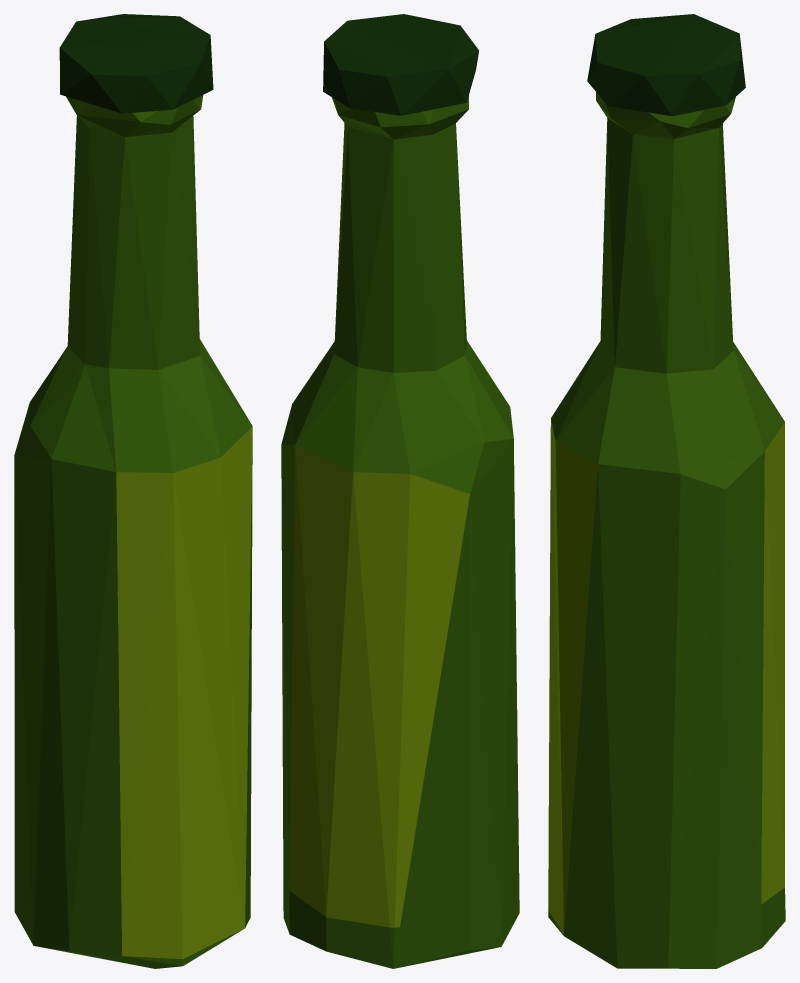
The model's file is Bottle04.fbx.
The picture shows the model from 3 angles, left to right: view 1: azimuth 30°, elevation 25°; view 2: azimuth 150°, elevation 25°; view 3: azimuth 270°, elevation 25°; orthographic projection.
Parts seen in each view (by area): view 1: Bottle04LowPoly; view 2: Bottle04LowPoly; view 3: Bottle04LowPoly.
Part boxes in pixels (x1,y1,x2,y2): Bottle04LowPoly: (14, 14, 252, 968); Bottle04LowPoly: (281, 14, 519, 968); Bottle04LowPoly: (548, 14, 785, 968).
Bounding box in the file's own units: 5.59 × 22.91 × 5.6.
